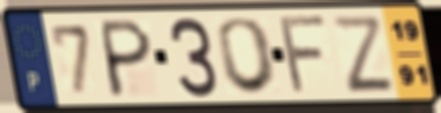3: (166, 13, 219, 100)
7: (47, 21, 95, 96)
F: (277, 12, 331, 97)
O: (214, 15, 281, 97)
P: (100, 16, 155, 100)
Z: (328, 13, 398, 95)
